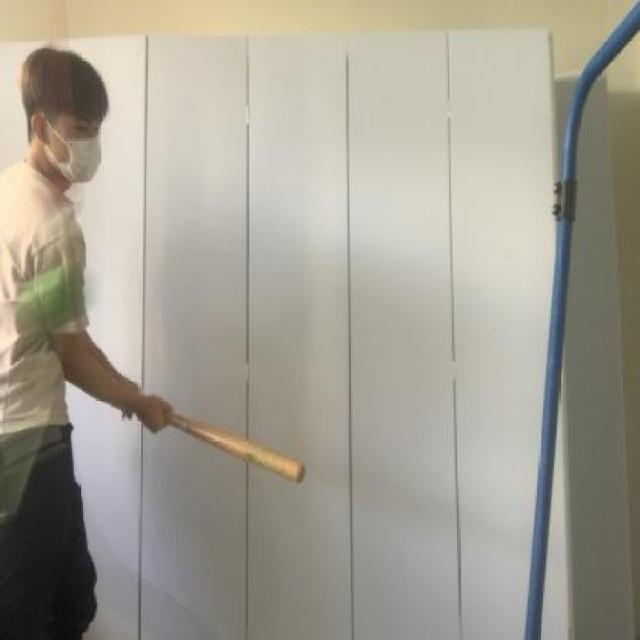baseball: (15, 254, 100, 349)
